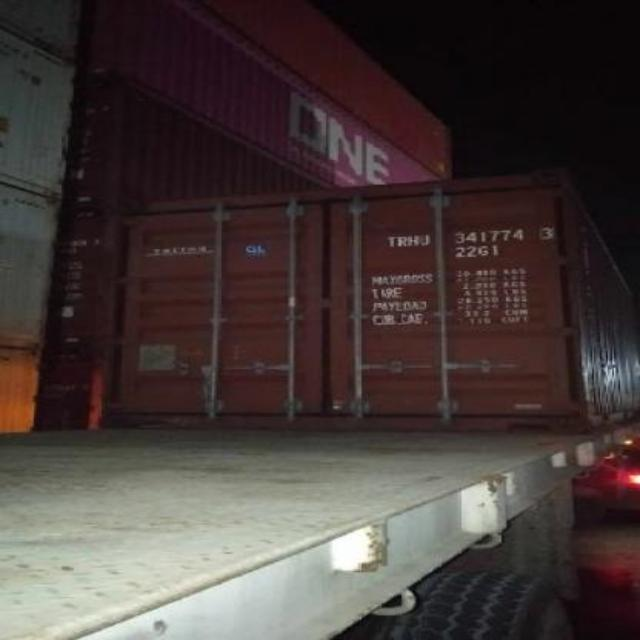1: (478, 230, 490, 242)
3: (540, 227, 556, 239), (454, 232, 466, 244)
4: (466, 230, 478, 243), (514, 229, 526, 241)
7: (488, 229, 500, 241), (500, 229, 512, 241)
H: (406, 235, 419, 247)
R: (398, 236, 408, 248)
T: (386, 236, 398, 248)
U: (418, 234, 430, 246)
